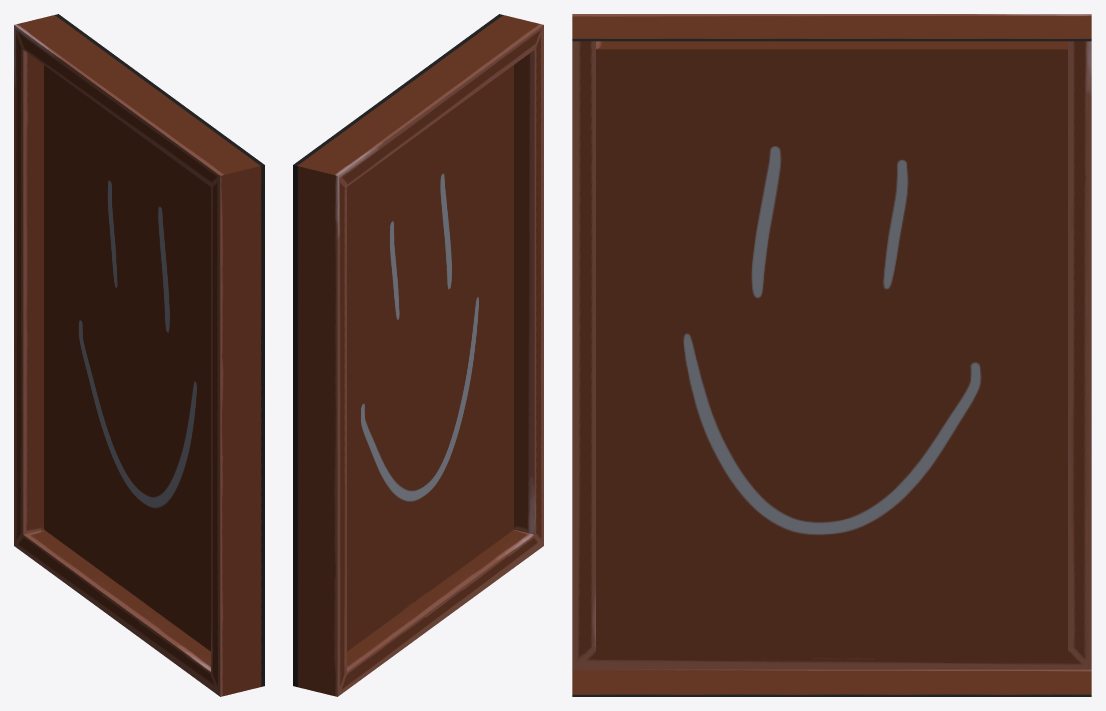
The model's file is Frame.FBX.
The picture shows the model from 3 angles, left to right: view 1: azimuth 30°, elevation 25°; view 2: azimuth 150°, elevation 25°; view 3: azimuth 270°, elevation 25°; orthographic projection. The views are drawn at different scales.
Parts seen in each view (by area): view 1: Box001; view 2: Box001; view 3: Box001.
Boxes of the visible parts, left/top/right/bottom form: Box001: left=14, top=14, right=264, bottom=696; Box001: left=293, top=14, right=543, bottom=696; Box001: left=572, top=14, right=1091, bottom=696.
Bounding box in the file's own units: 3.93 × 43.9 × 31.5.
